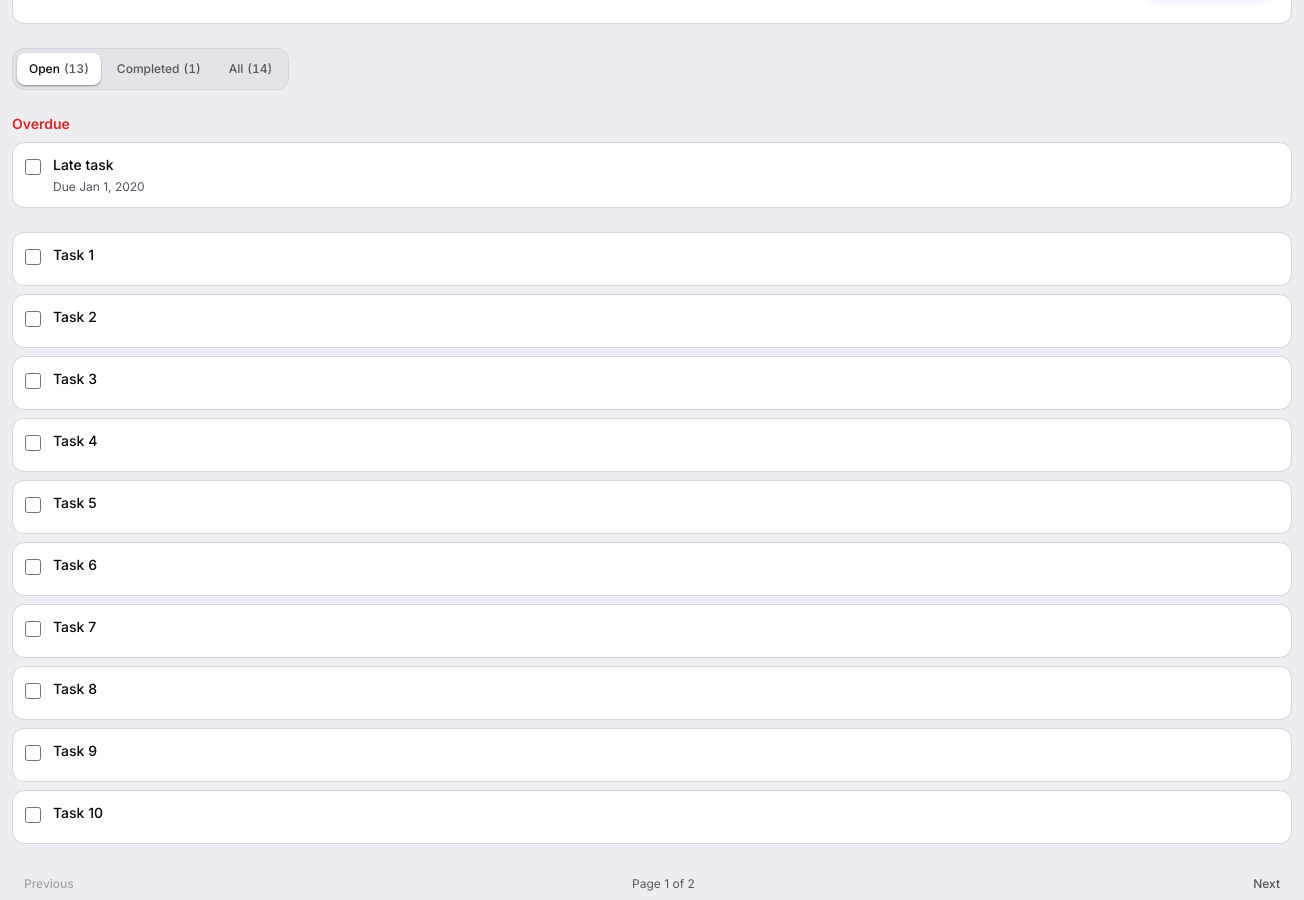
Scenario: TodoList filter and paging › keeps Overdue above the paged list in Open and All, not in Completed
The width and height of the screenshot is (1304, 900).
(page scrolled)
Expected: the heading "Overdue" is shown, [12, 115, 70, 132]
Expected: the text "Page 1 of 2" is shown, [632, 876, 695, 892]
Click the button "Next": [1267, 884] box [1241, 868, 1292, 899]
(page scrolled)
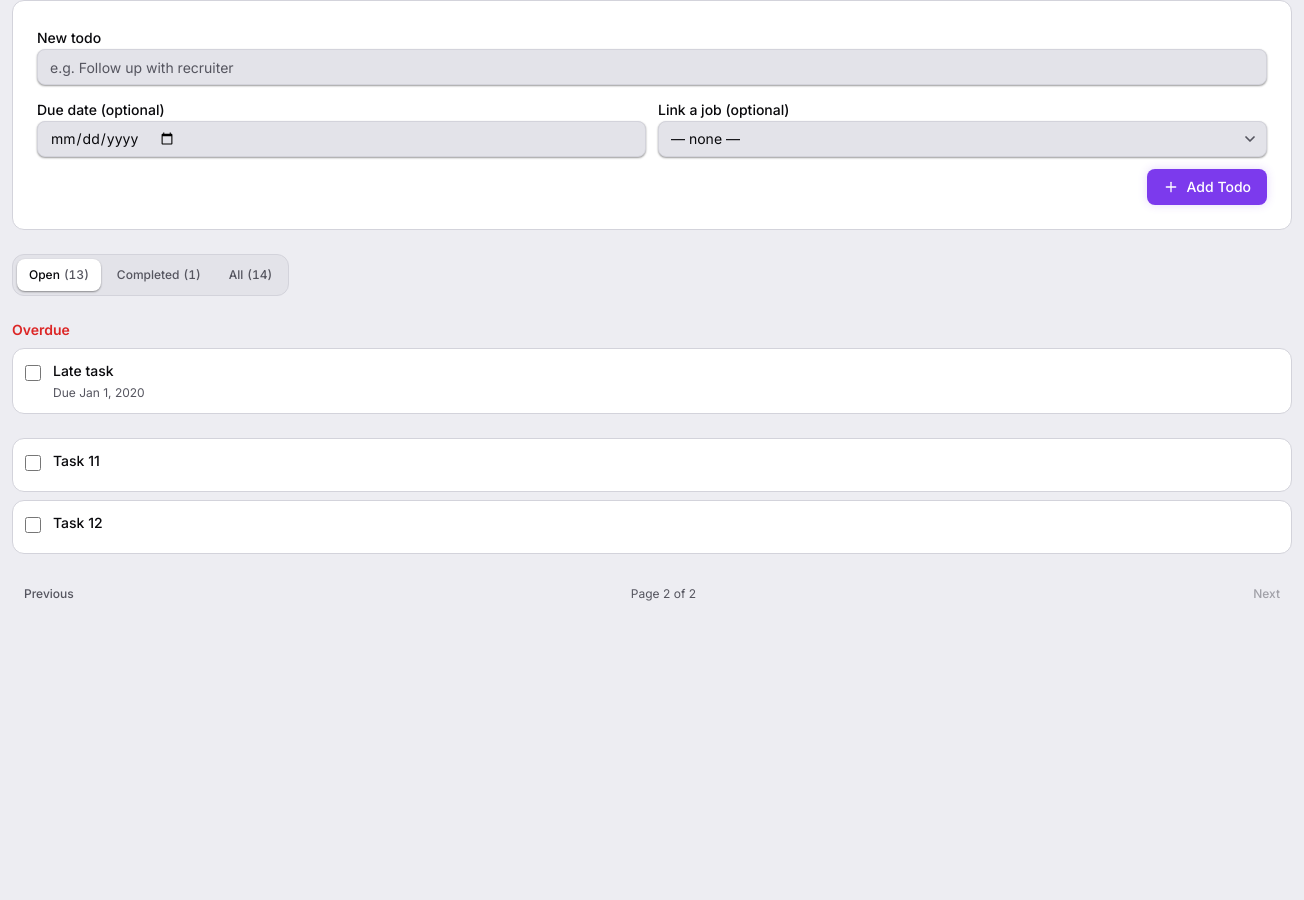
Expected: the heading "Overdue" is shown, [12, 321, 70, 338]
Click the button "Completed (1)": [159, 275] box [105, 259, 213, 291]
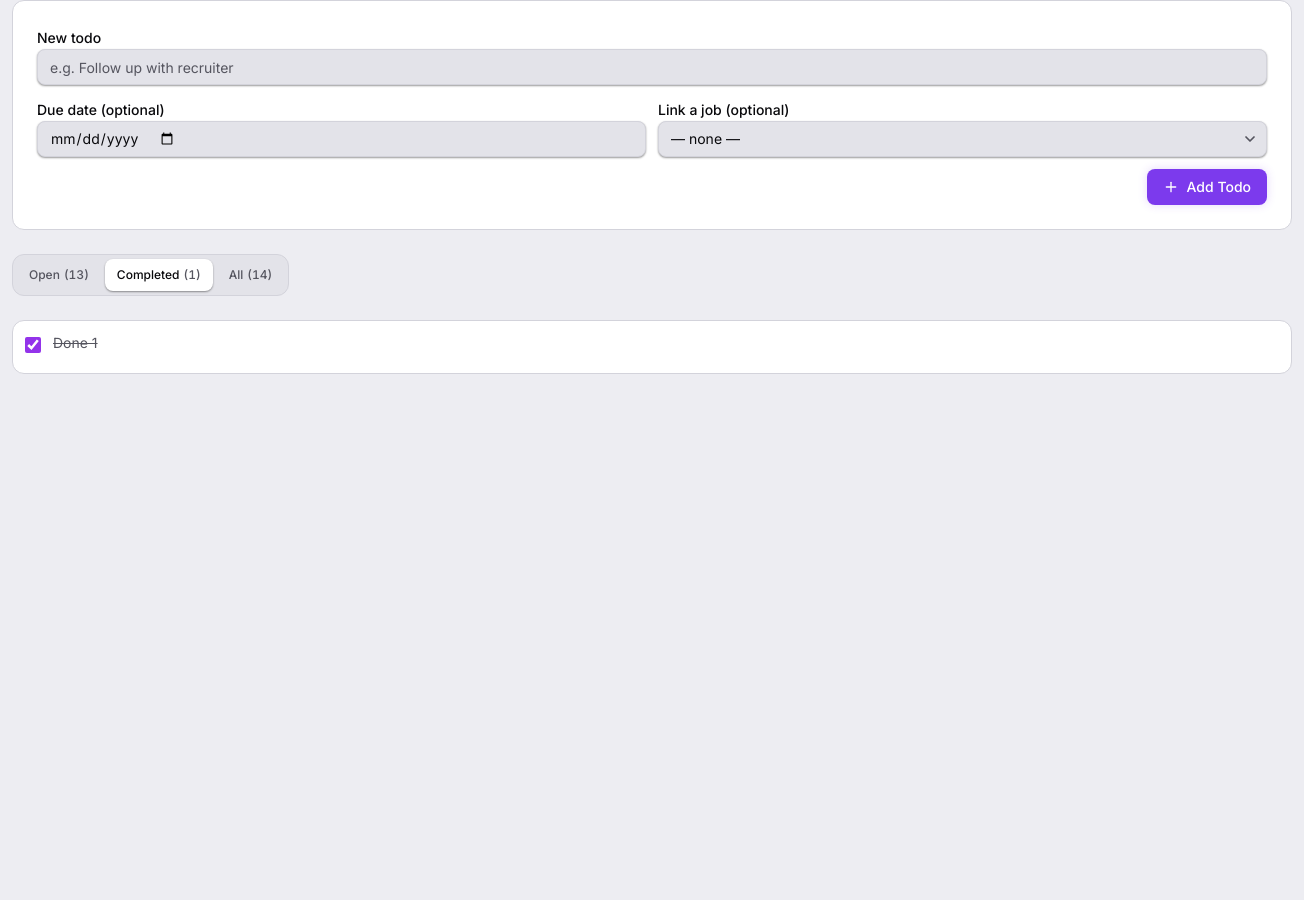
Now the heading "Overdue" is gone
